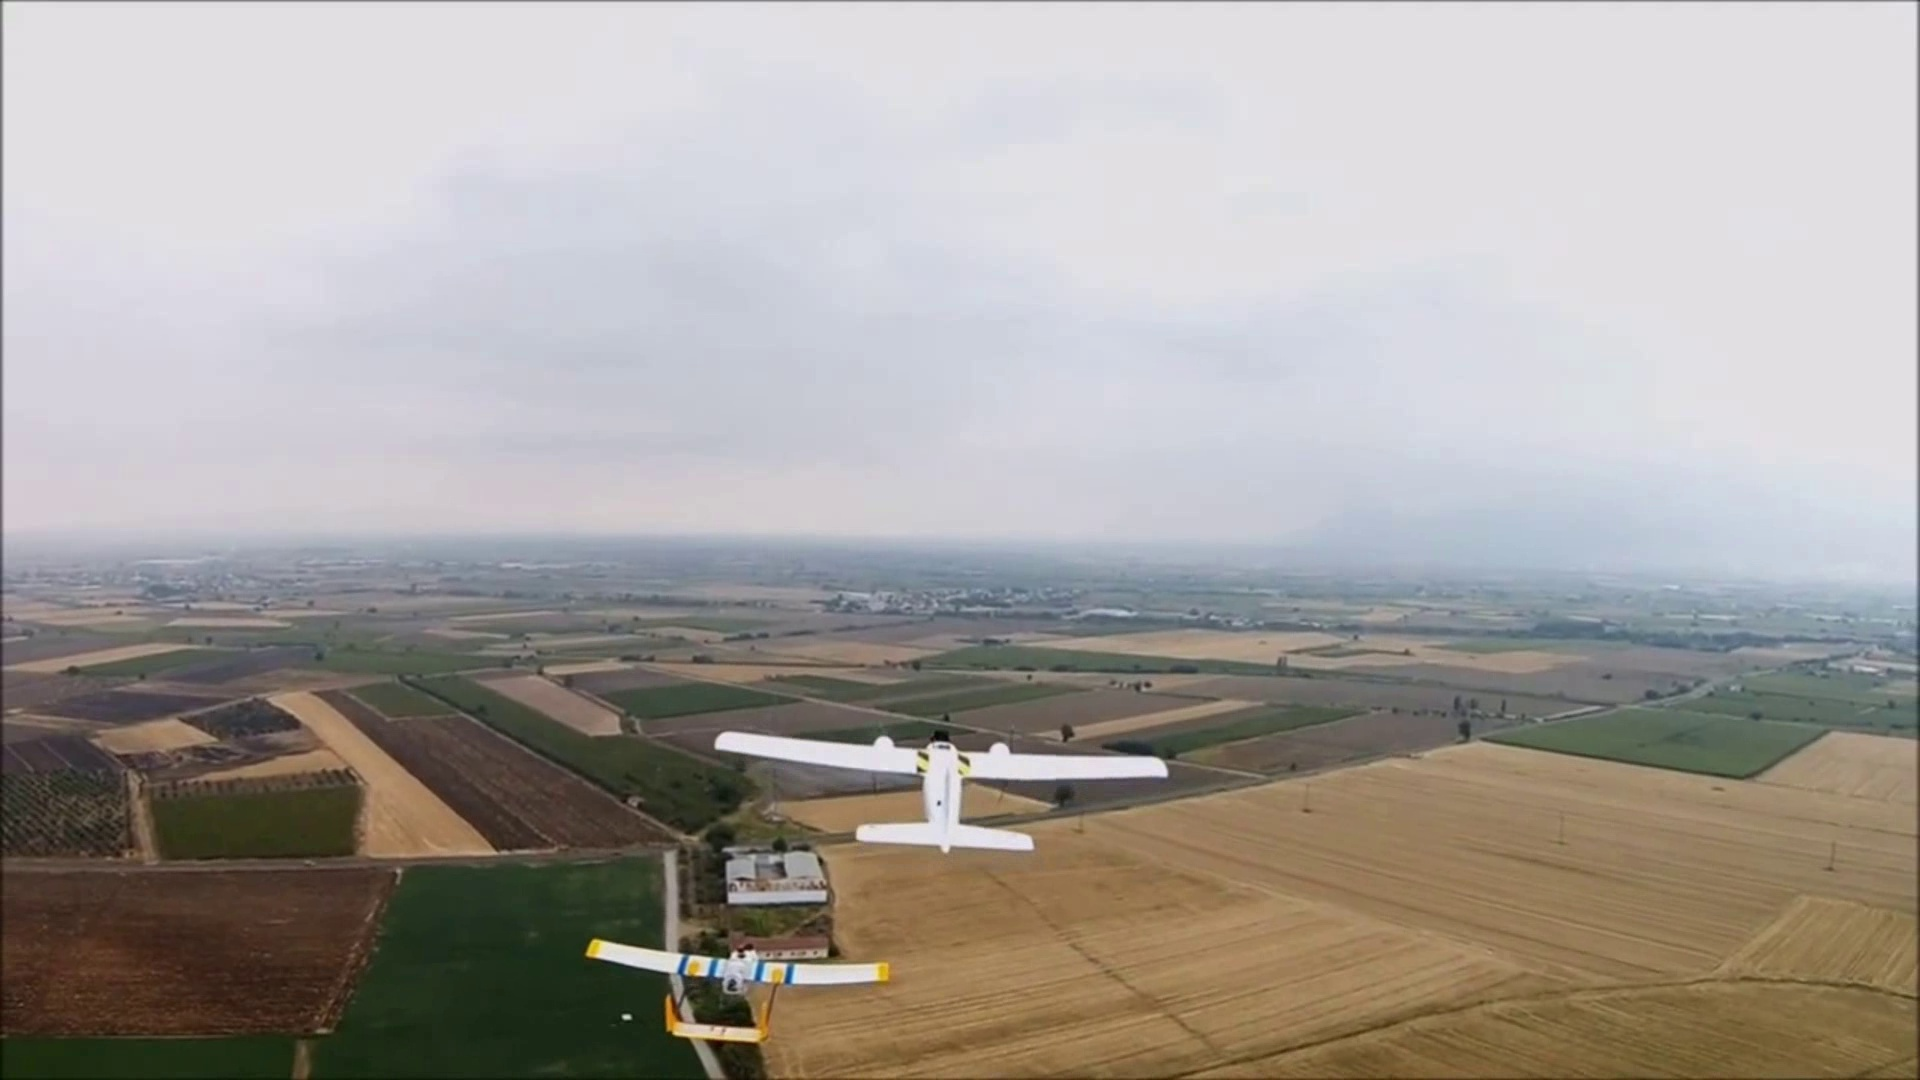airplane: (709, 718, 1171, 800)
